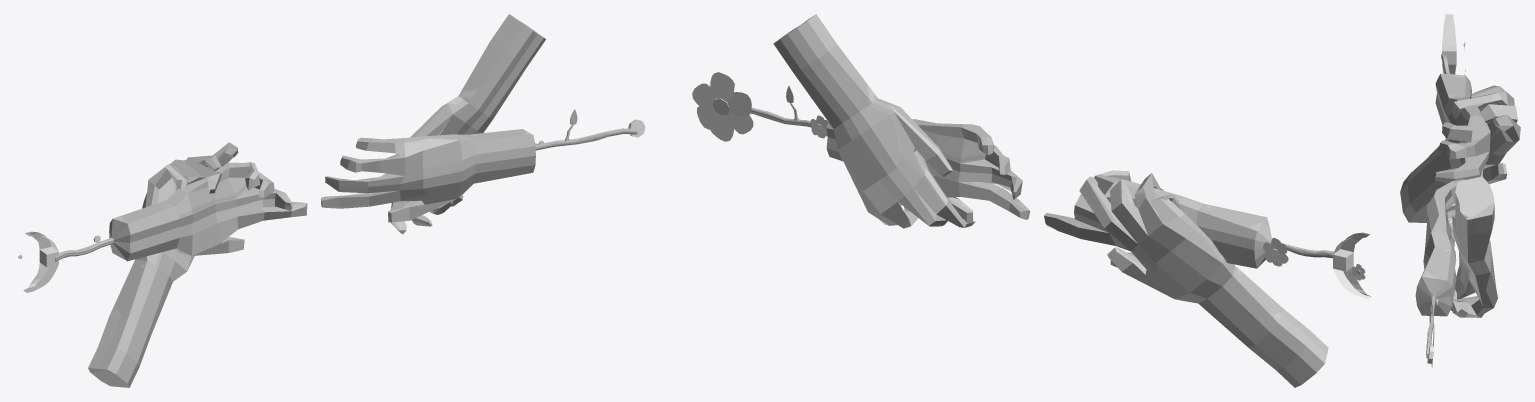
File: TouchingHands.glb
3 views of the same model, side by side, from view 1: azimuth 30°, elevation 25°; view 2: azimuth 150°, elevation 25°; view 3: azimuth 270°, elevation 25° (orthographic). The views are drawn at different scales.
Visible parts, largest first — view 1: Cube.001, Cube; view 2: Cube.001, Cube; view 3: Cube.001, Cube.
Boxes of the visible parts, <box> form: Cube.001: <box>55,14,637,387</box>; Cube: <box>23,231,58,292</box>; Cube.001: <box>751,14,1334,387</box>; Cube: <box>1333,232,1371,299</box>; Cube.001: <box>1400,54,1520,358</box>; Cube: <box>1442,14,1456,74</box>.
Size of the model in its own units: 23.51 by 8.91 by 3.73.
Materials: 1 (1 with a texture image).
